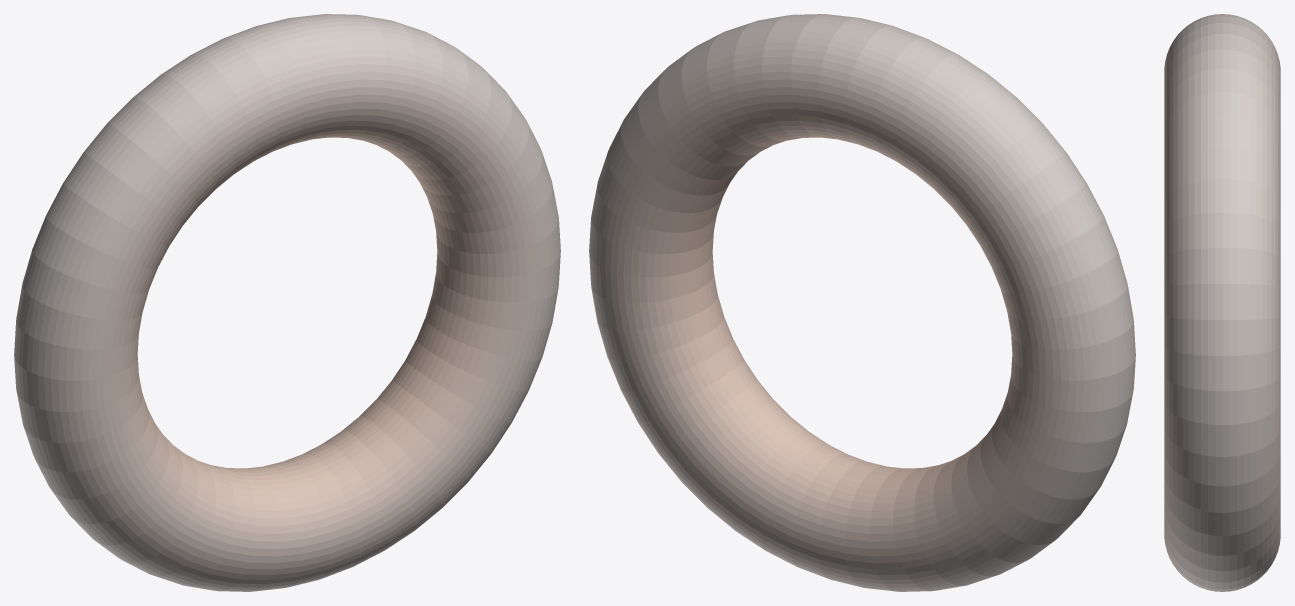
The picture shows the model from 3 angles, left to right: view 1: azimuth 30°, elevation 25°; view 2: azimuth 150°, elevation 25°; view 3: azimuth 270°, elevation 25°; orthographic projection. The views are drawn at different scales.
Visible parts, largest first — view 1: world; view 2: world; view 3: world.
Part boxes in pixels (x1,y1,x2,y2): world: (14,14,560,591); world: (589,14,1135,591); world: (1164,14,1280,591).
Size of the model in its own units: 28.4 by 28.34 by 5.72.
